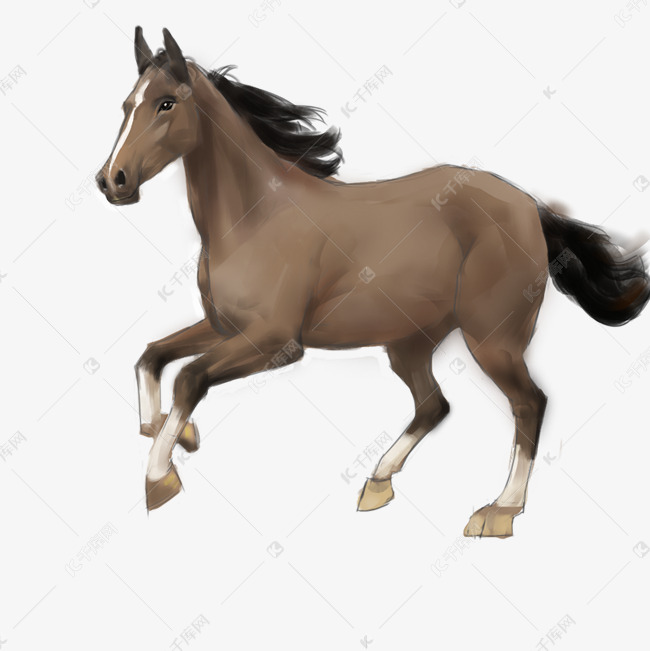background: (95, 20, 650, 548)
